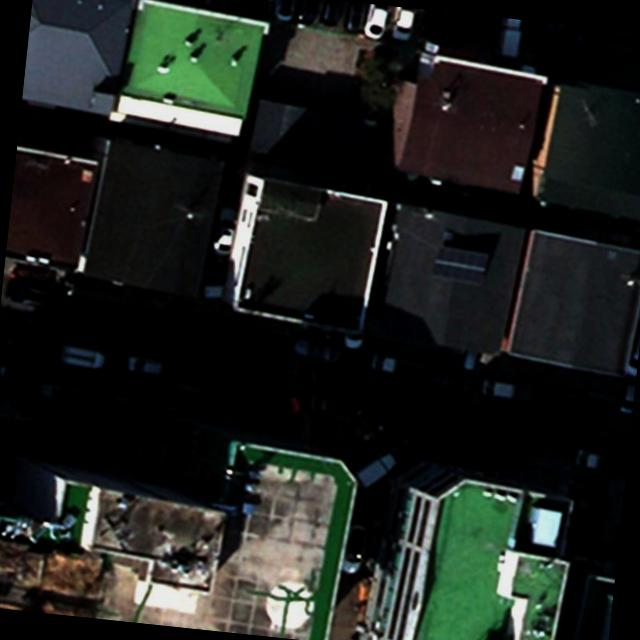solar: (432, 240, 494, 288)
